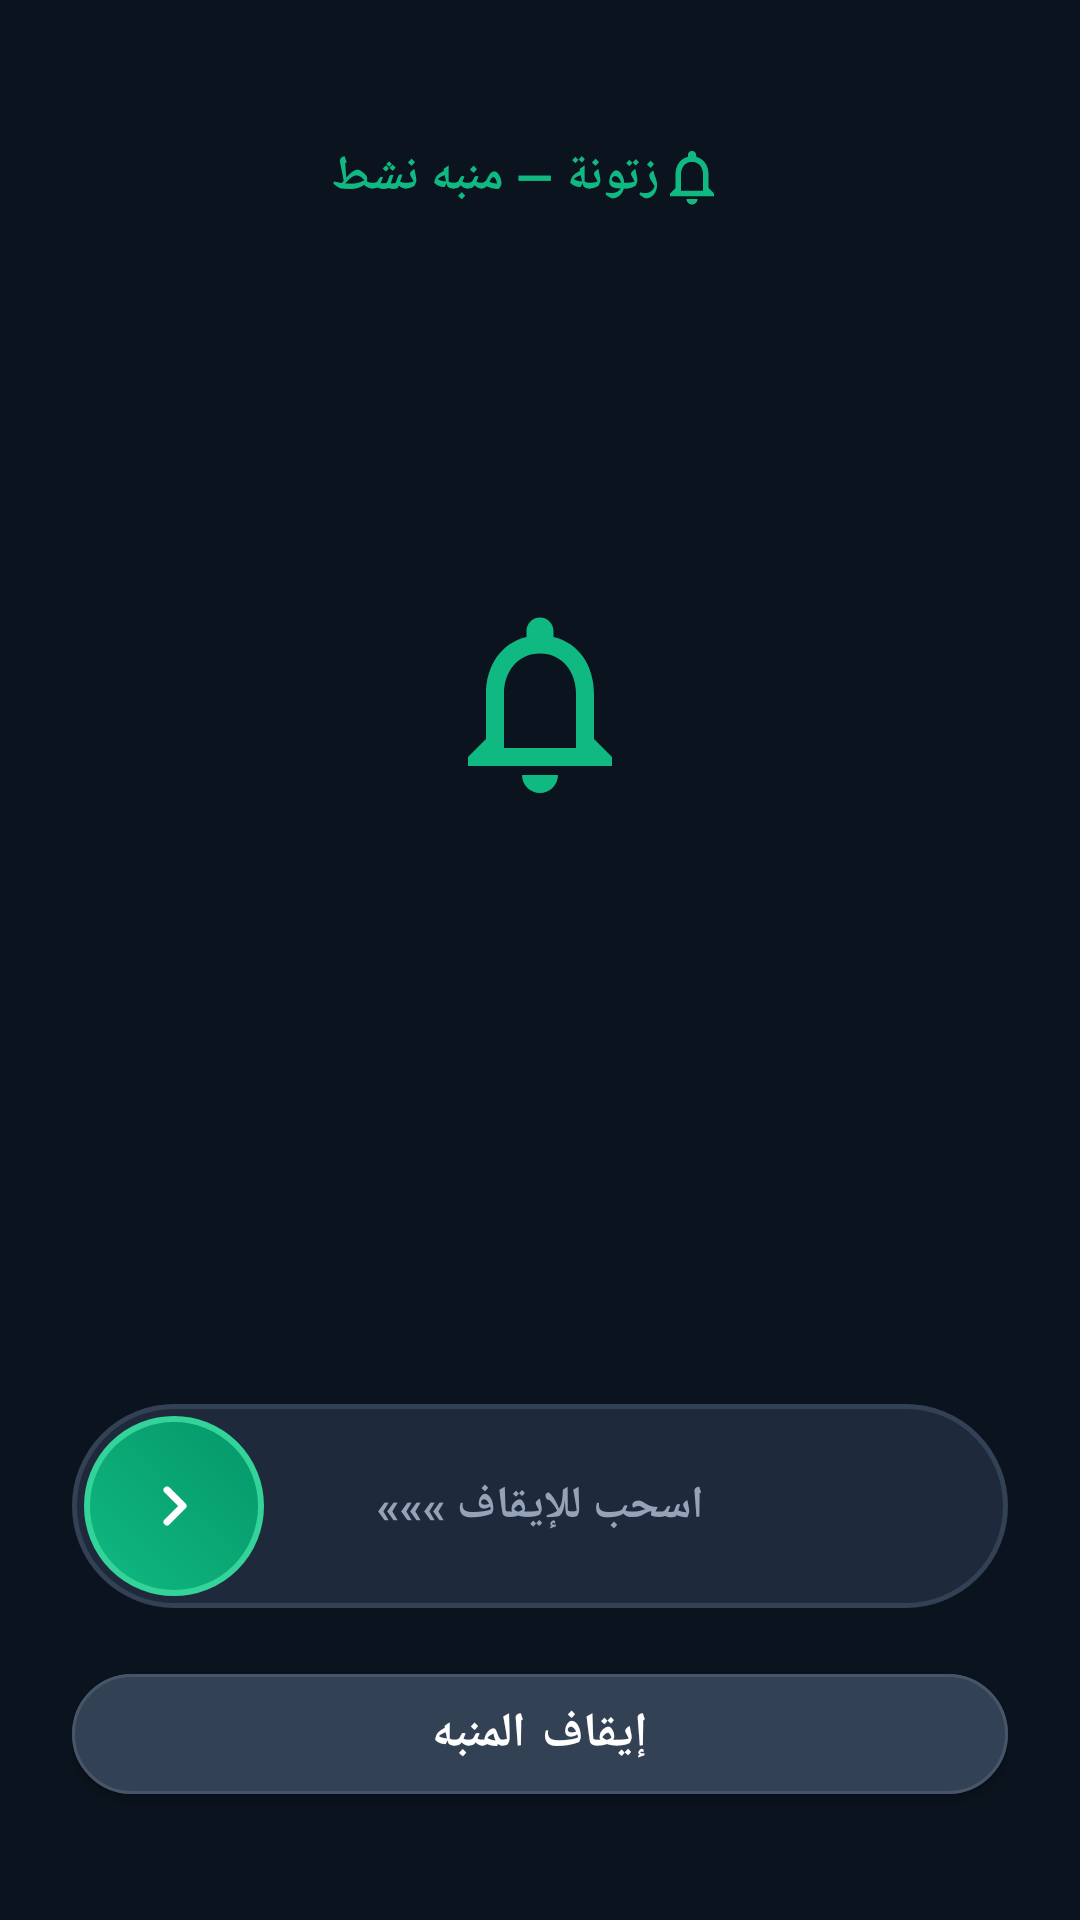

Locate icon controls on the screen. Image size 1080×1920, boxes as (x1=x1, y1=y1, x2=x2, y2=y2).
أيقونة المنبه: (x1=468, y1=617, x2=612, y2=793)
